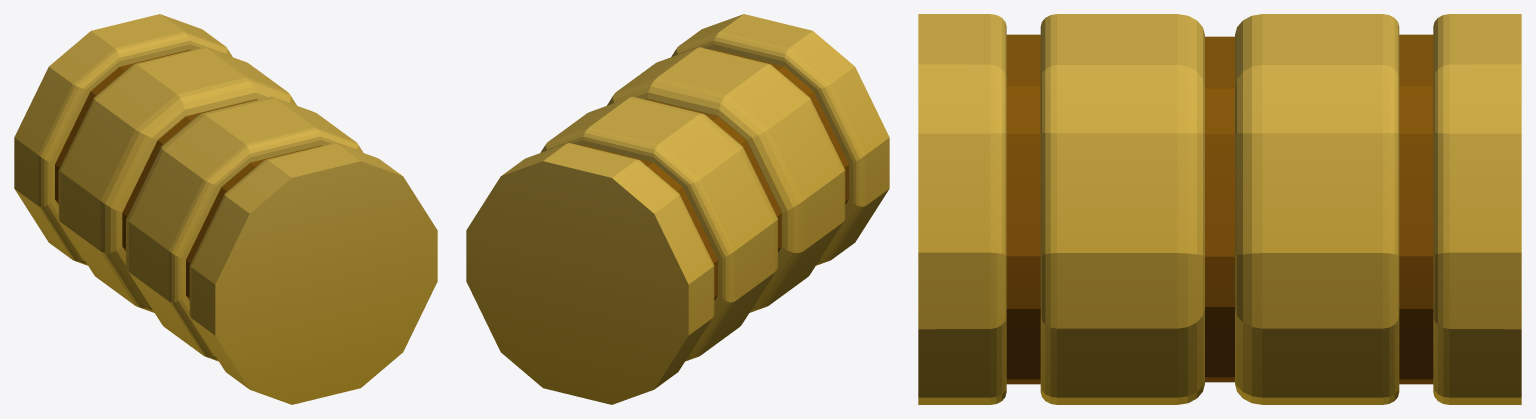
The model's file is HayBaleCylinder.fbx.
3 views of the same model, side by side, from view 1: azimuth 30°, elevation 25°; view 2: azimuth 150°, elevation 25°; view 3: azimuth 270°, elevation 25° (orthographic). The views are drawn at different scales.
Parts seen in each view (by area): view 1: CylinderHayBale.001; view 2: CylinderHayBale.001; view 3: CylinderHayBale.001.
Boxes of the visible parts, box(x1,y1,x2,y2) form: CylinderHayBale.001: box(14, 14, 437, 404); CylinderHayBale.001: box(466, 14, 889, 404); CylinderHayBale.001: box(918, 14, 1521, 404).
Bounding box in the file's own units: 0.2274 × 0.2219 × 0.3562.
